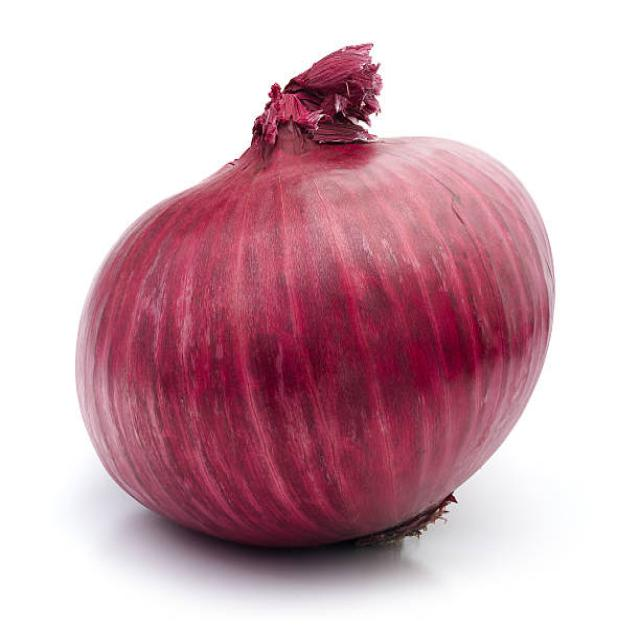onion: (72, 123, 564, 550)
